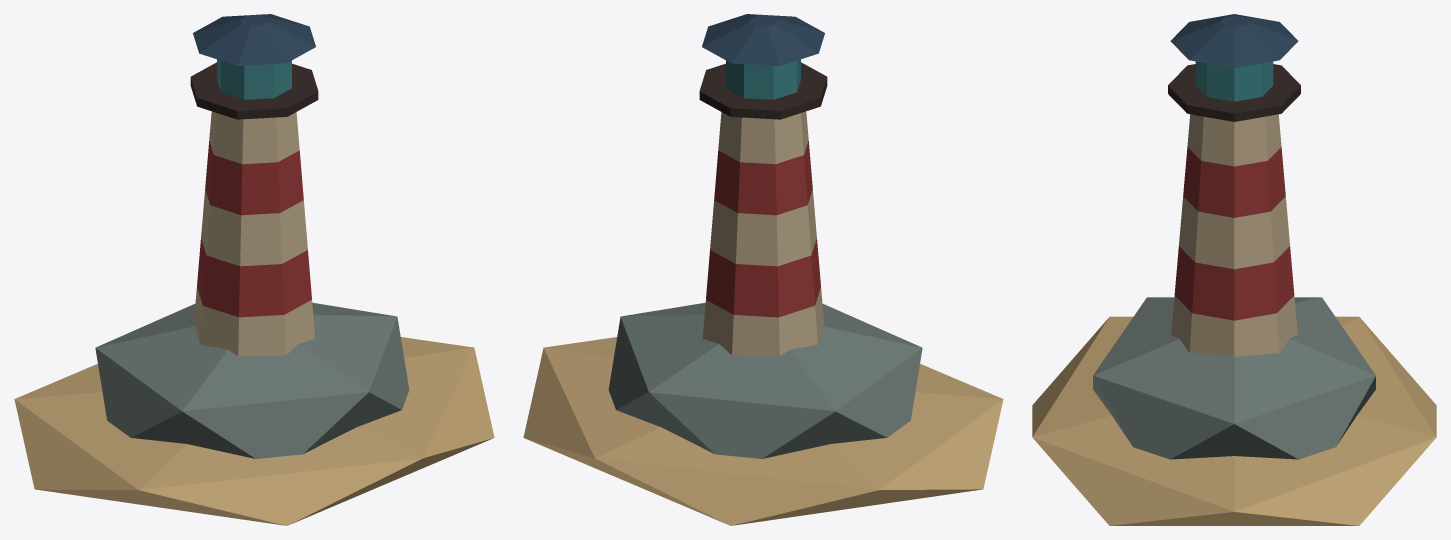
File: PirateCove_LighthouseIsland_Simple.glb
3 renders of one model, left to right at view 1: azimuth 30°, elevation 25°; view 2: azimuth 150°, elevation 25°; view 3: azimuth 270°, elevation 25°, orthographic.
Visible parts, largest first — view 1: PirateCove_LighthouseIsland_Simple; view 2: PirateCove_LighthouseIsland_Simple; view 3: PirateCove_LighthouseIsland_Simple.
Part boxes in pixels (x1=…): PirateCove_LighthouseIsland_Simple: x1=14, y1=14, x2=494, y2=525; PirateCove_LighthouseIsland_Simple: x1=523, y1=14, x2=1003, y2=525; PirateCove_LighthouseIsland_Simple: x1=1032, y1=14, x2=1436, y2=525.
Bounding box in the file's own units: 10.73 × 10.18 × 8.51.
